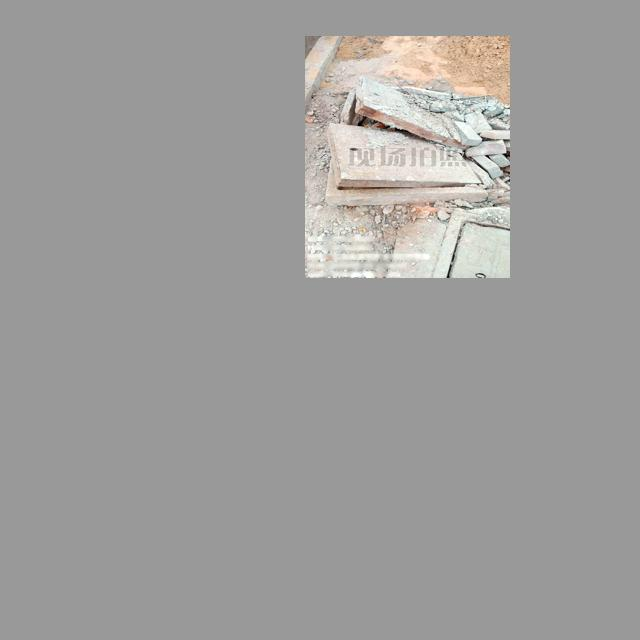uncovered: (324, 77, 489, 205)
